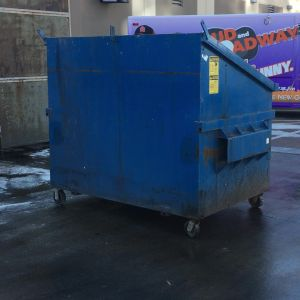Dumpster: (36, 25, 280, 242)
